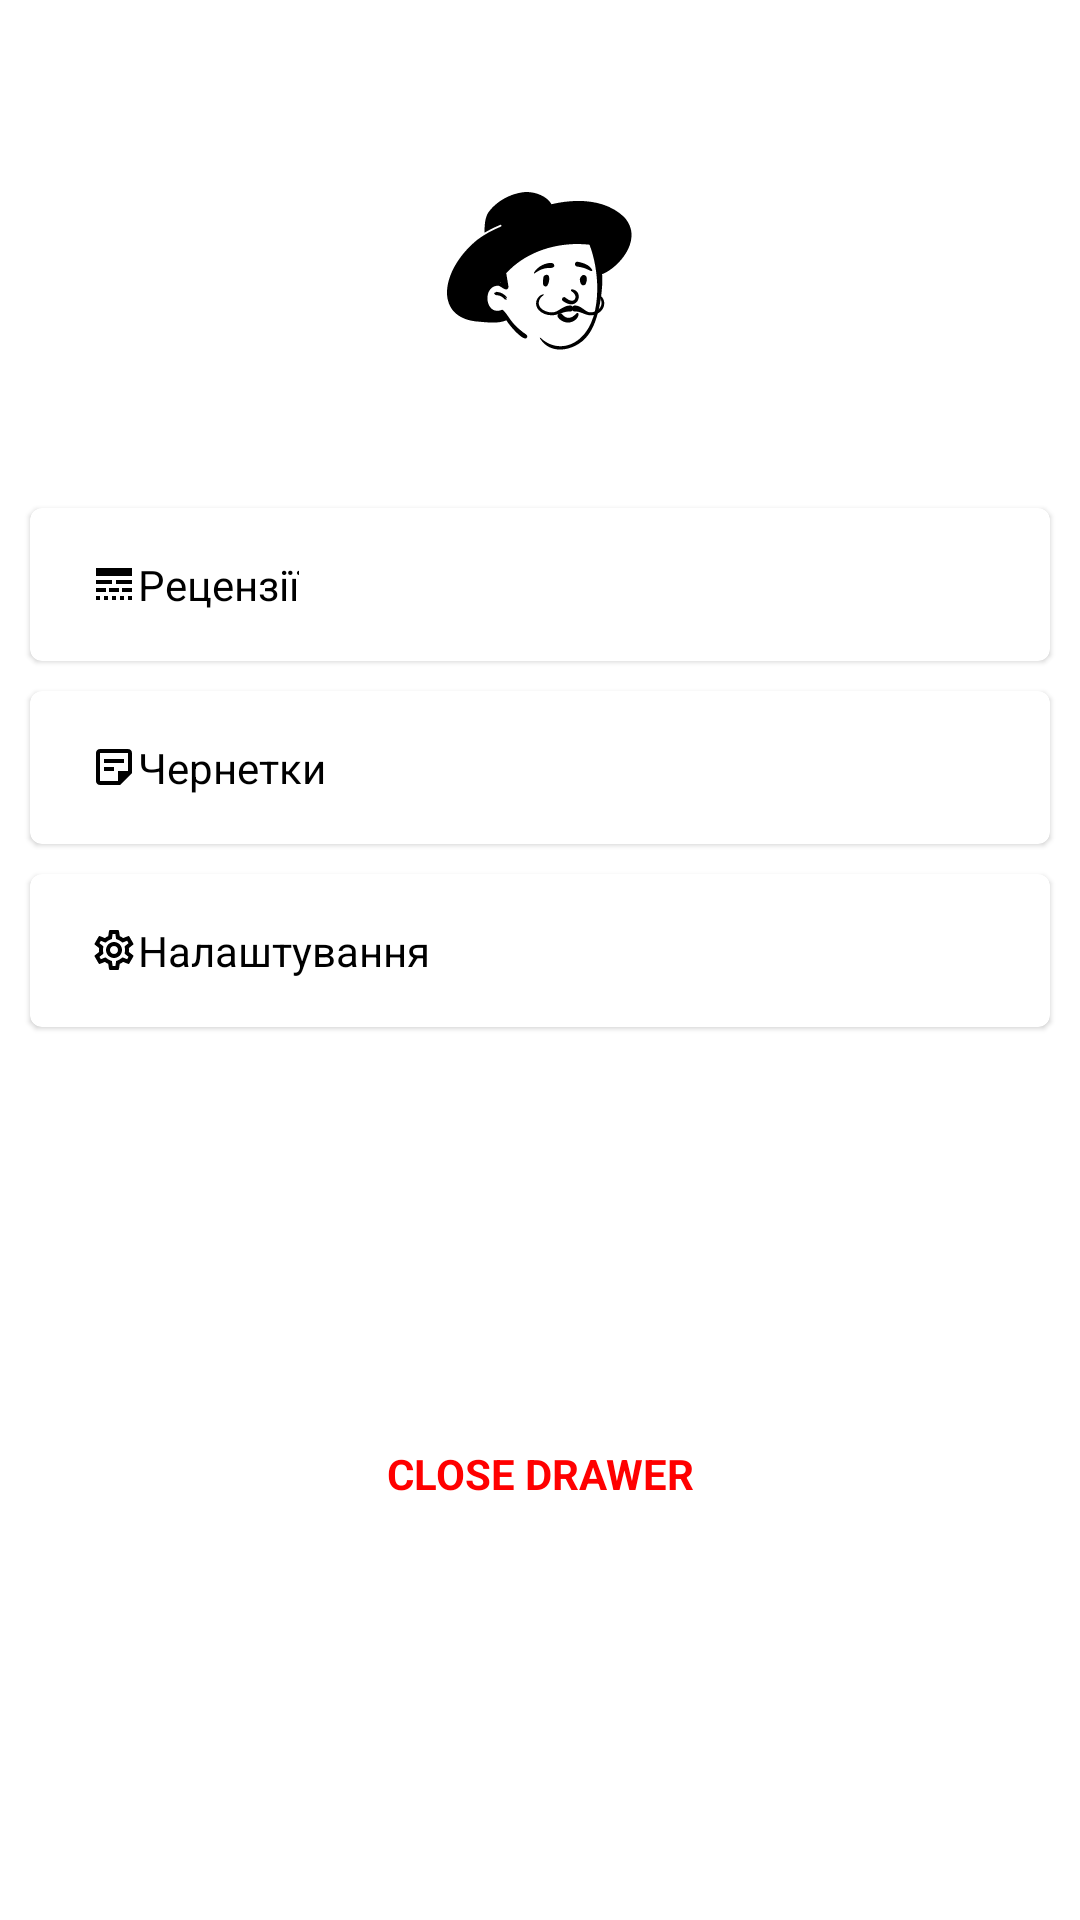

Where icons sit on this 1080x1920 app screen, as (x1, y1, x2, y2):
head: (447, 192, 632, 350)
